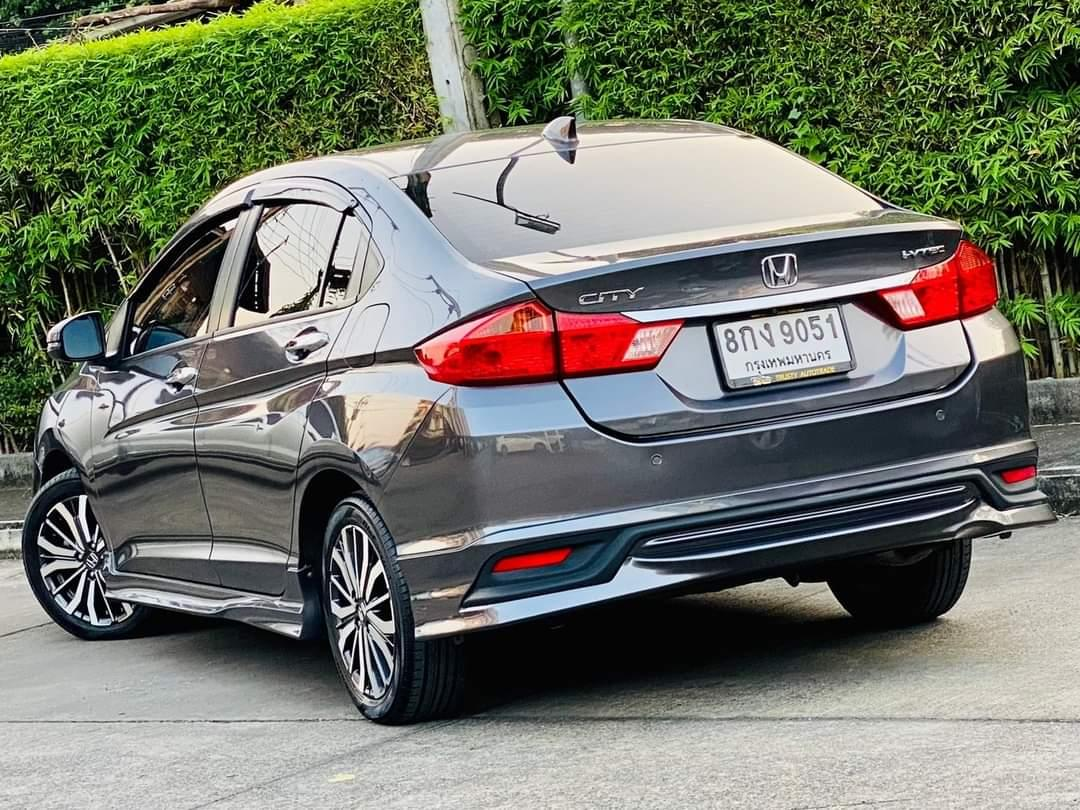license-plate: (702, 300, 863, 402)
